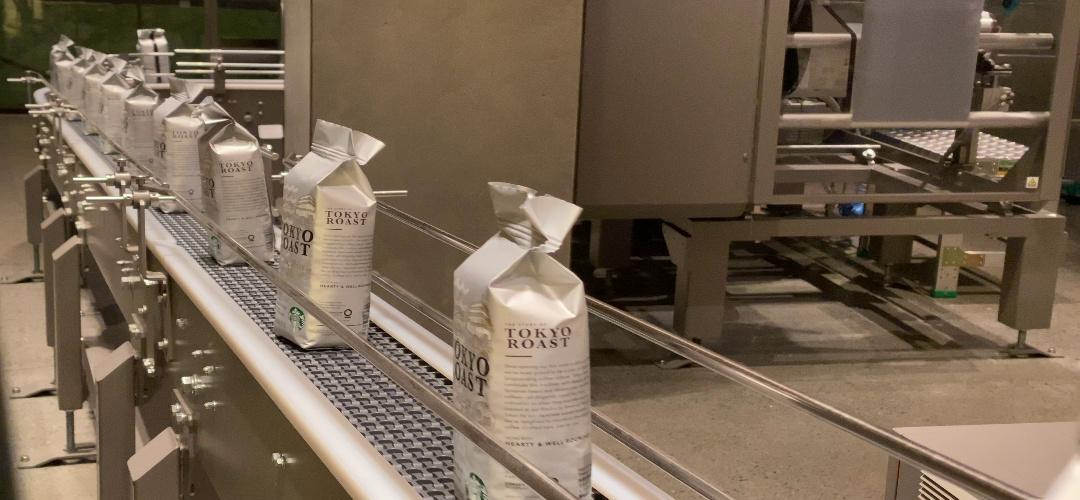conveyor: (451, 270, 591, 409), (280, 174, 376, 276), (198, 138, 269, 212)
